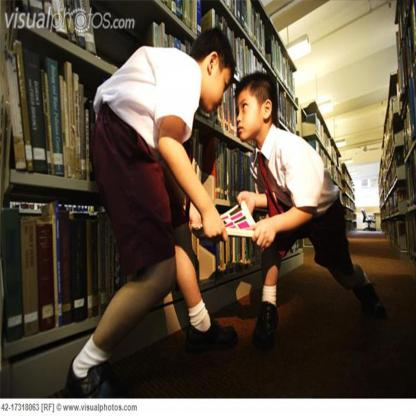face: (237, 99, 265, 141), (207, 71, 231, 110)
